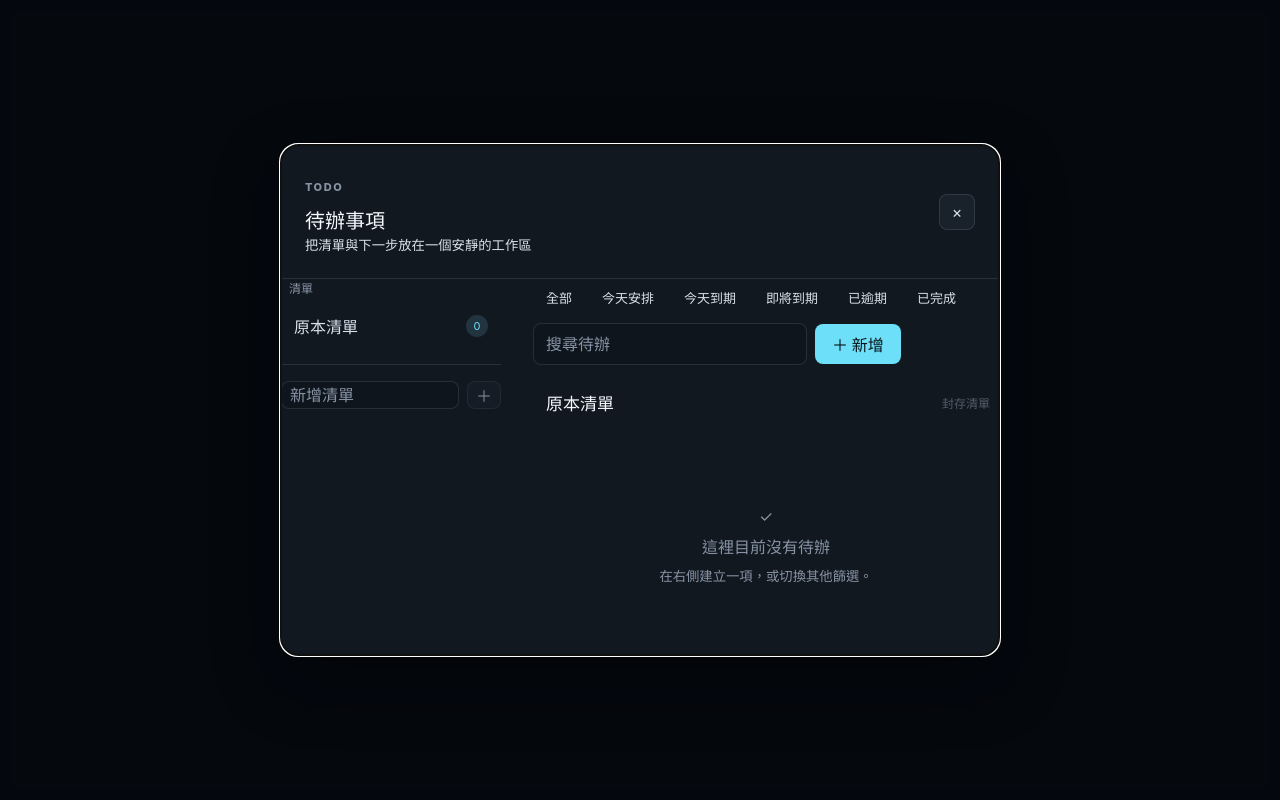
Test case: TodoDialog list binding › keeps the created list and reports a binding failure
This screenshot has width=1280, height=800.
Type "Unity" into the field named "新增清單名稱" at (370, 395), box [281,381,459,409]
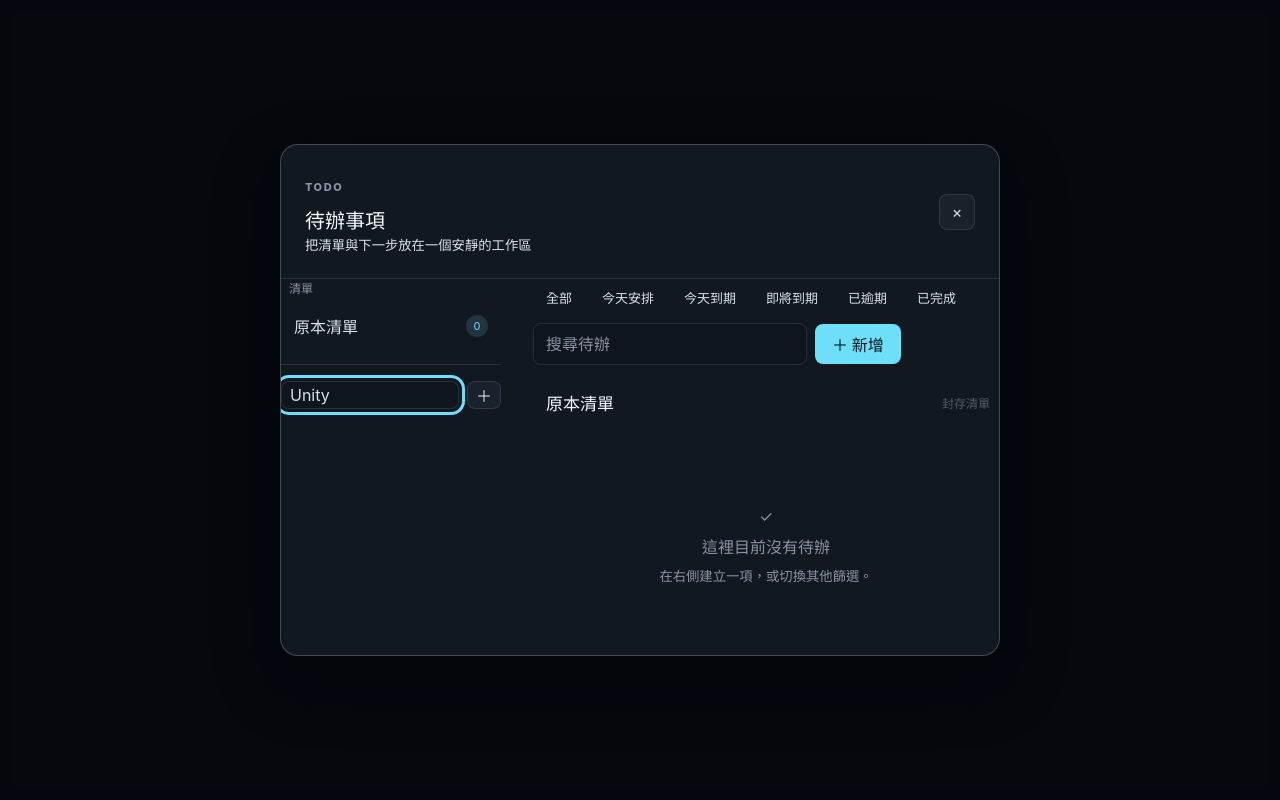
Click the button named "建立清單" at (484, 395), box [467,381,501,409]
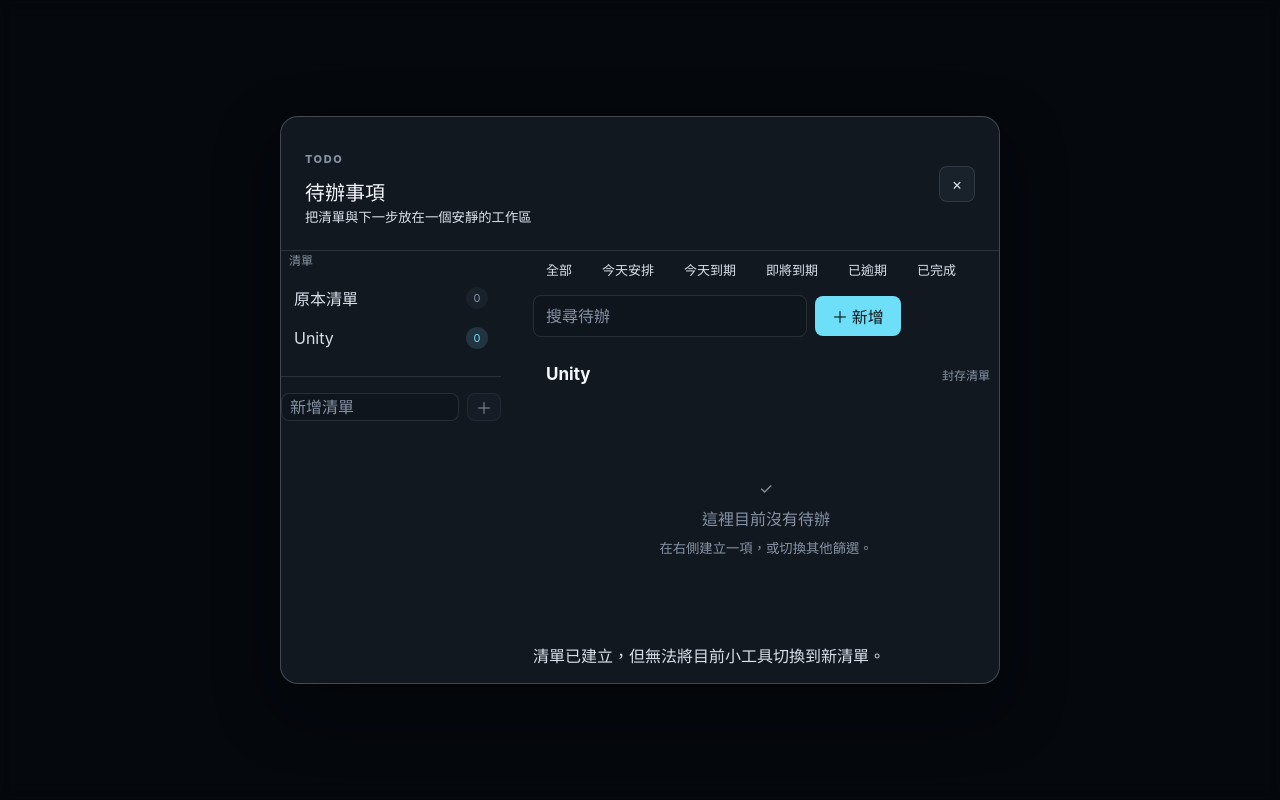
Expected: the field showing "Unity" is shown, [533,353,868,395]
Expected: the message reads "清單已建立，但無法將目前小工具切換到新清單。", [533,646,885,666]
